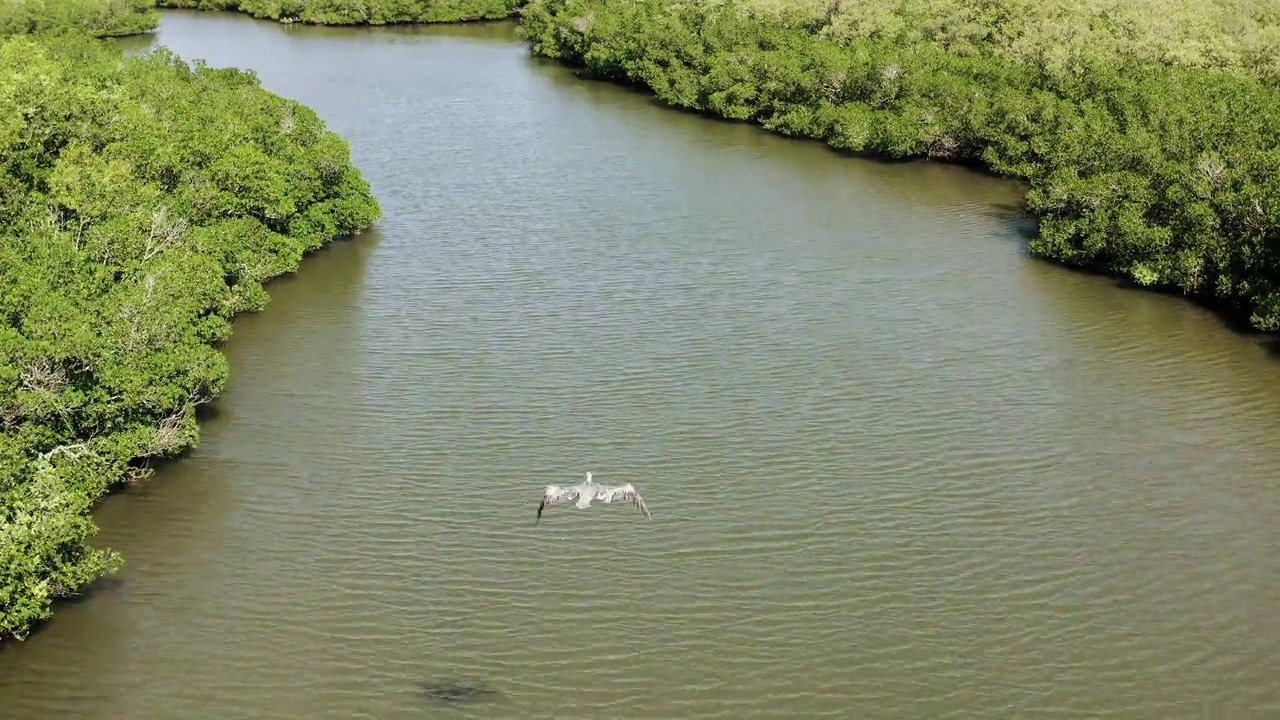bird: (532, 469, 648, 522)
